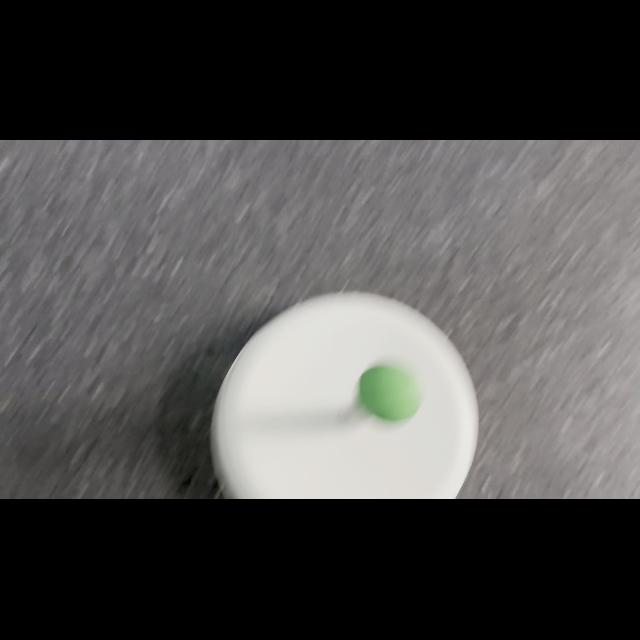objects: (352, 352, 426, 428)
